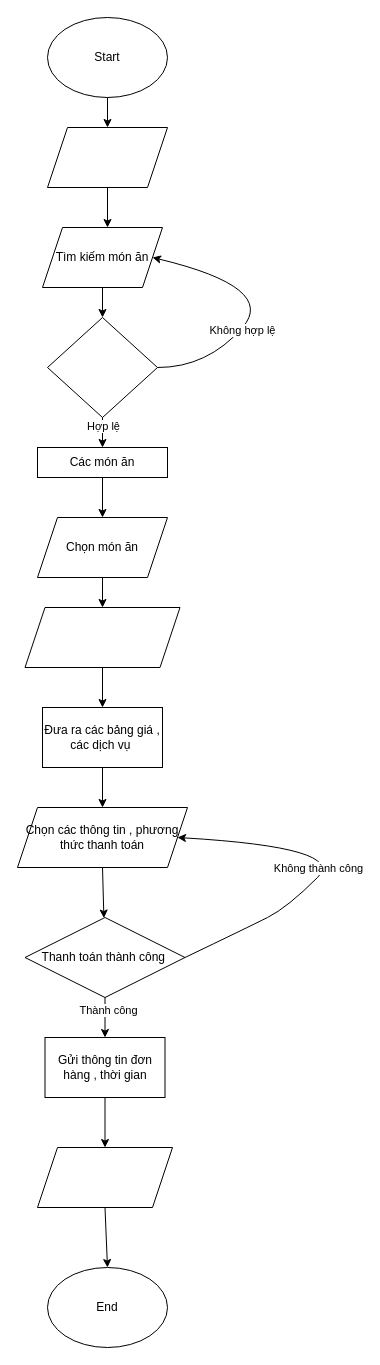
This 380x1365 diagram has some shape labels left out. The box of each missing label's shape, as (x1, y1, x2, y2) in pixels:
Món ăn hợp lệ: (46, 316, 158, 418)
Nhập thông tin cá nhân: (46, 126, 168, 188)
Nhập thông tin địa chỉ nhận hàng: (24, 606, 180, 668)
Nhập đánh giá của khách hàng: (36, 1146, 172, 1208)
